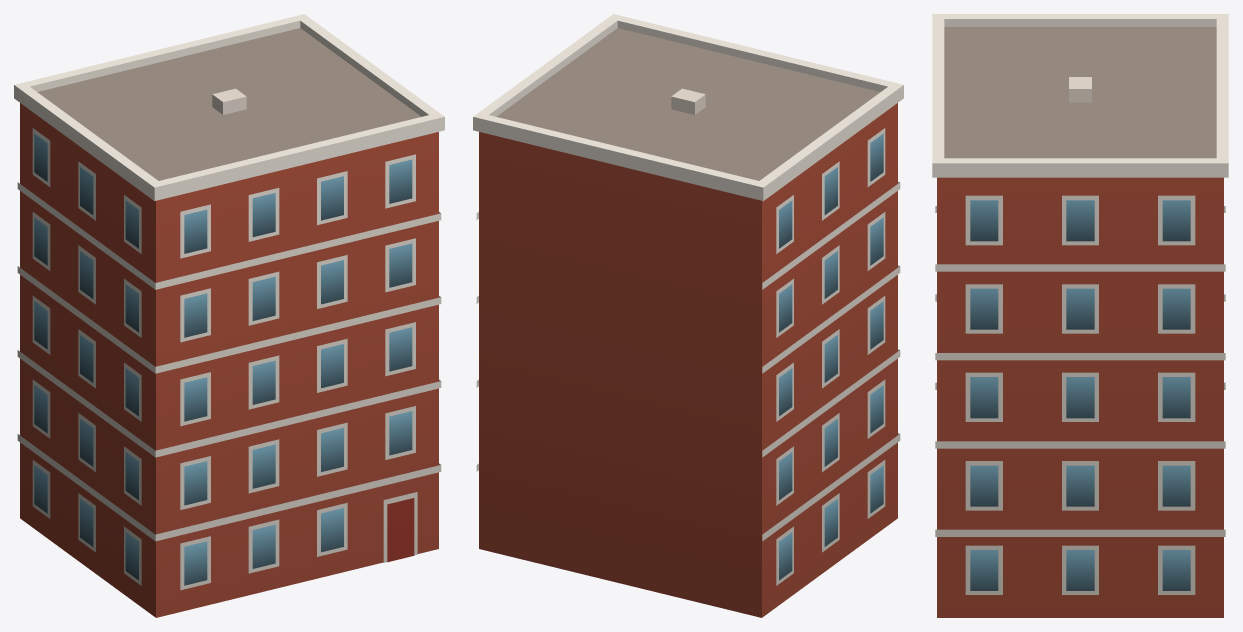
Rendered from sky7_far.glb.
The picture shows the model from 3 angles, left to right: view 1: azimuth 30°, elevation 25°; view 2: azimuth 150°, elevation 25°; view 3: azimuth 270°, elevation 25°; orthographic projection. The views are drawn at different scales.
Visible parts, largest first — view 1: sky7_far; view 2: sky7_far; view 3: sky7_far.
Part boxes in pixels (x1,y1,x2,y2): sky7_far: (14, 14, 444, 617); sky7_far: (473, 14, 903, 617); sky7_far: (932, 14, 1228, 617).
Bounding box in the file's own units: 12.32 × 17.77 × 10.32.
1 material, 1 textured.
